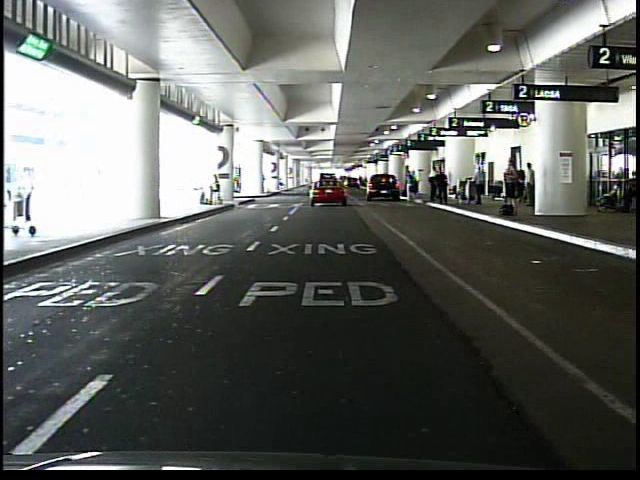person: (504, 159, 523, 220), (619, 172, 640, 214), (521, 163, 535, 208), (426, 167, 443, 204), (437, 170, 451, 207), (211, 173, 225, 208), (475, 167, 487, 207), (406, 167, 419, 203)
